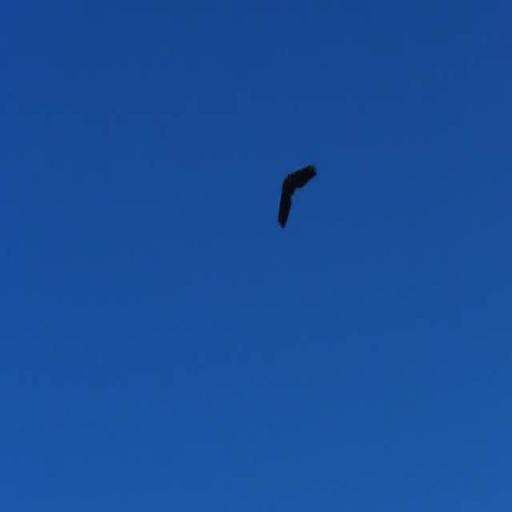uav: (276, 158, 322, 240)
